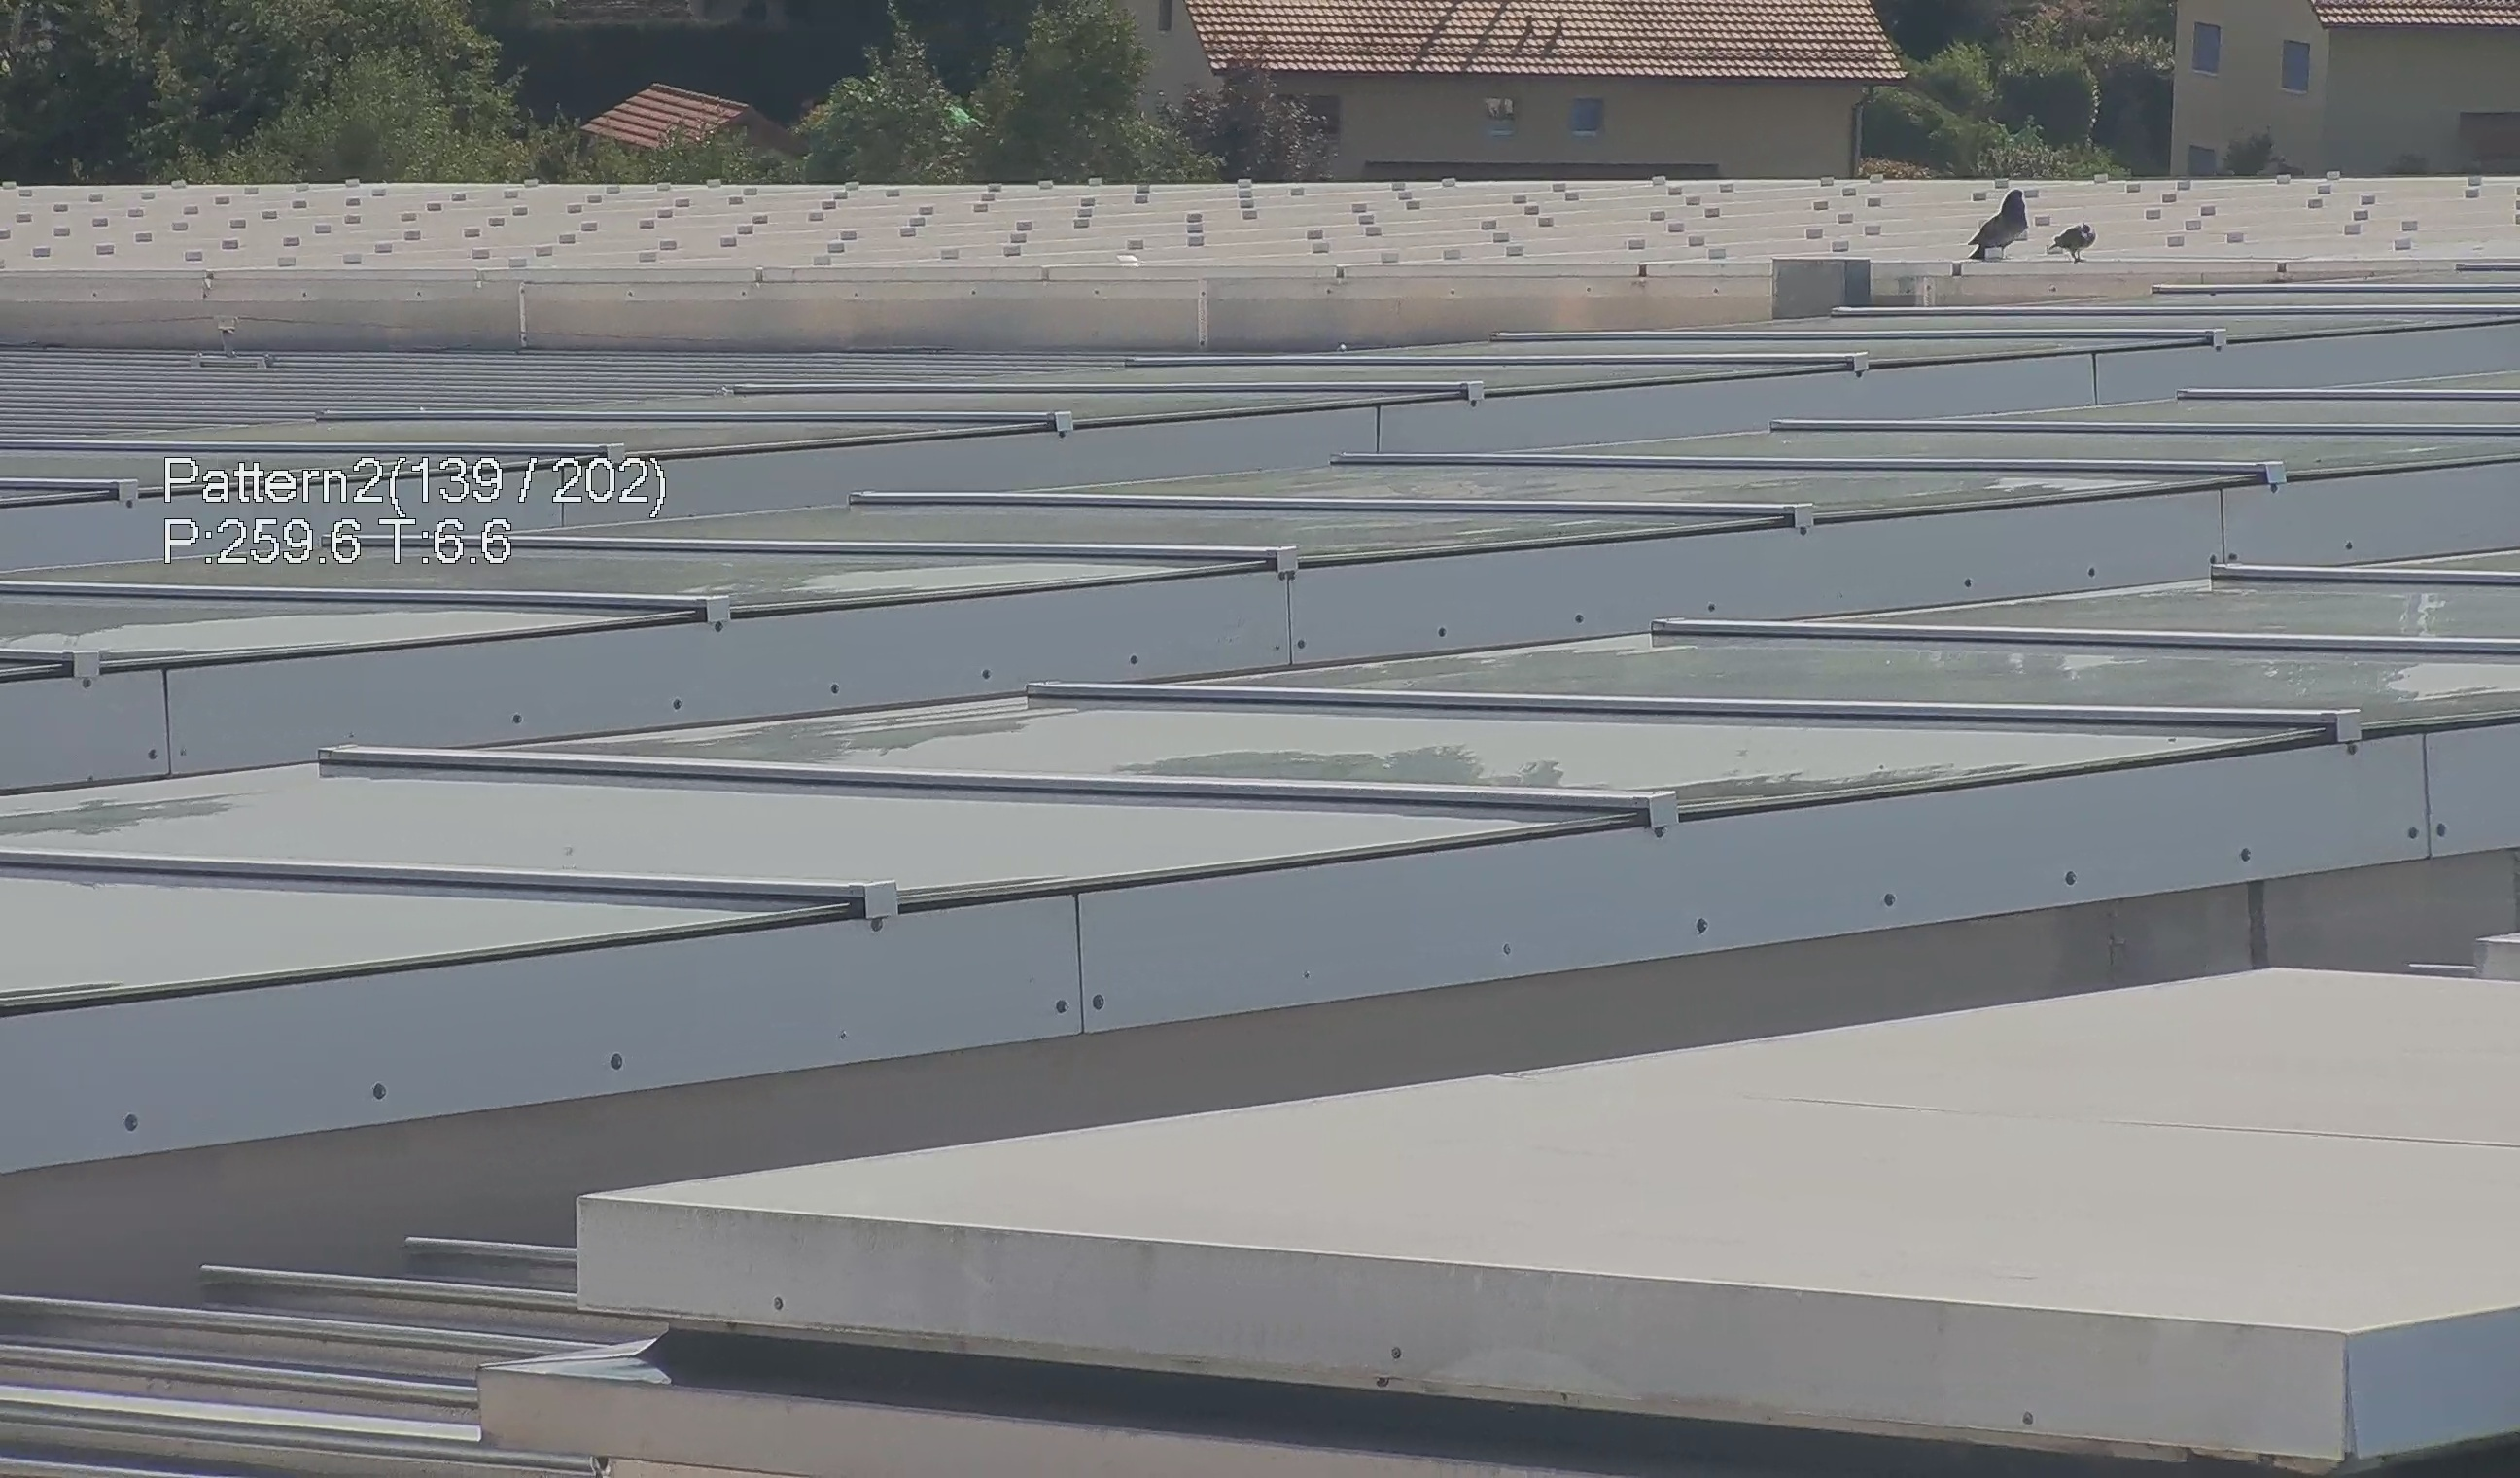Pigeon: (1973, 169, 2049, 252), (2043, 218, 2105, 274)
